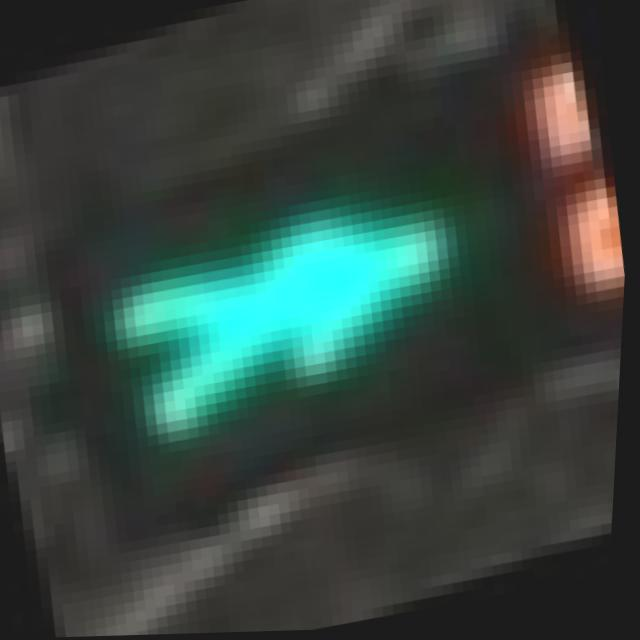green_light: (42, 71, 587, 510)
